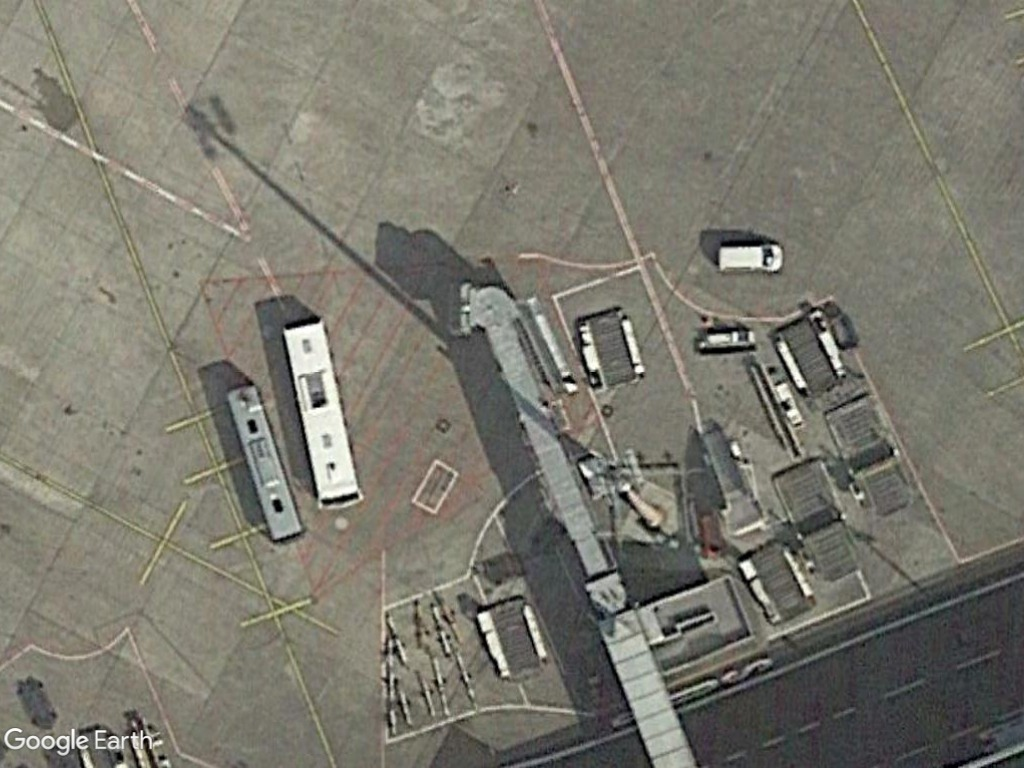bus: (279, 311, 364, 512), (221, 380, 305, 547)
van: (713, 240, 789, 277)
